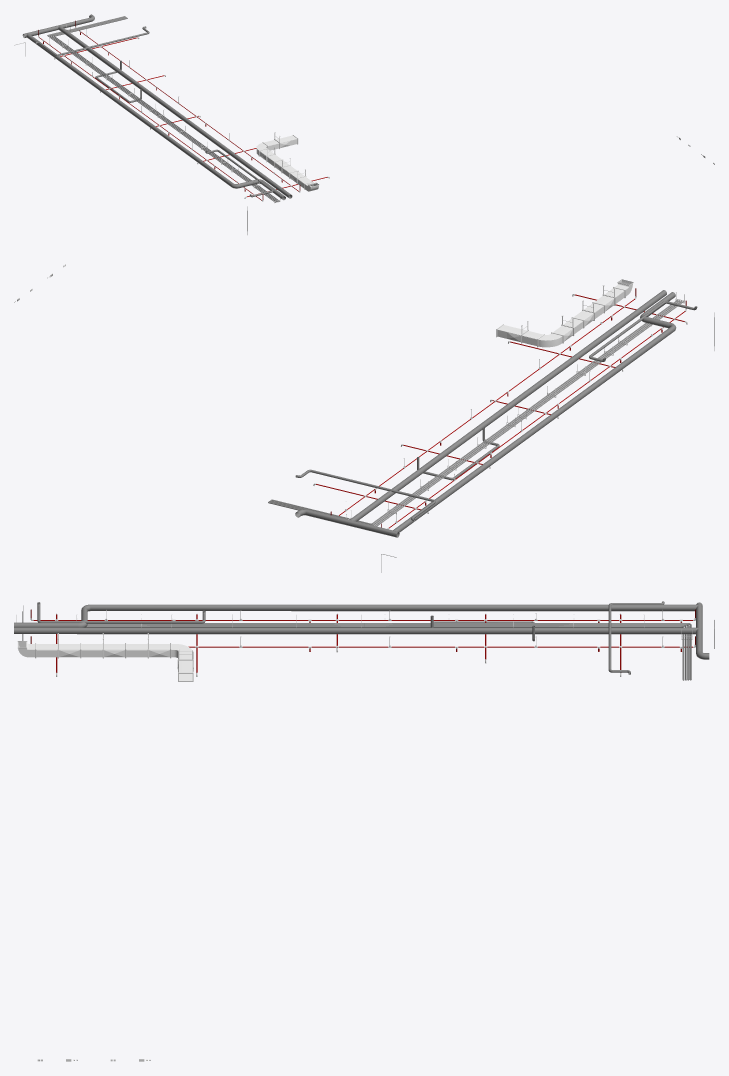
3 views of the same model, one above another, from view 1: azimuth 30°, elevation 25°; view 2: azimuth 150°, elevation 25°; view 3: azimuth 270°, elevation 25° (orthographic). The views are drawn at different scales.
Visible parts, largest first — view 1: SM_H_Building_FutureTech_HOrange_01_InterWall_02B; view 2: SM_H_Building_FutureTech_HOrange_01_InterWall_02B; view 3: SM_H_Building_FutureTech_HOrange_01_InterWall_02B.
Boxes of the visible parts, x1=… form: SM_H_Building_FutureTech_HOrange_01_InterWall_02B: x1=14, y1=14, x2=714, y2=234; SM_H_Building_FutureTech_HOrange_01_InterWall_02B: x1=14, y1=264, x2=714, y2=572; SM_H_Building_FutureTech_HOrange_01_InterWall_02B: x1=14, y1=601, x2=714, y2=1061.
Size of the model in its own units: 1279 by 1474 by 265.
